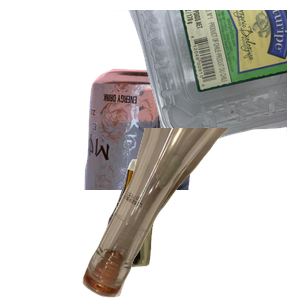glass: (80, 128, 300, 300)
metal: (82, 66, 270, 246)
plastic: (60, 10, 300, 149)
trash: (101, 157, 270, 300)
